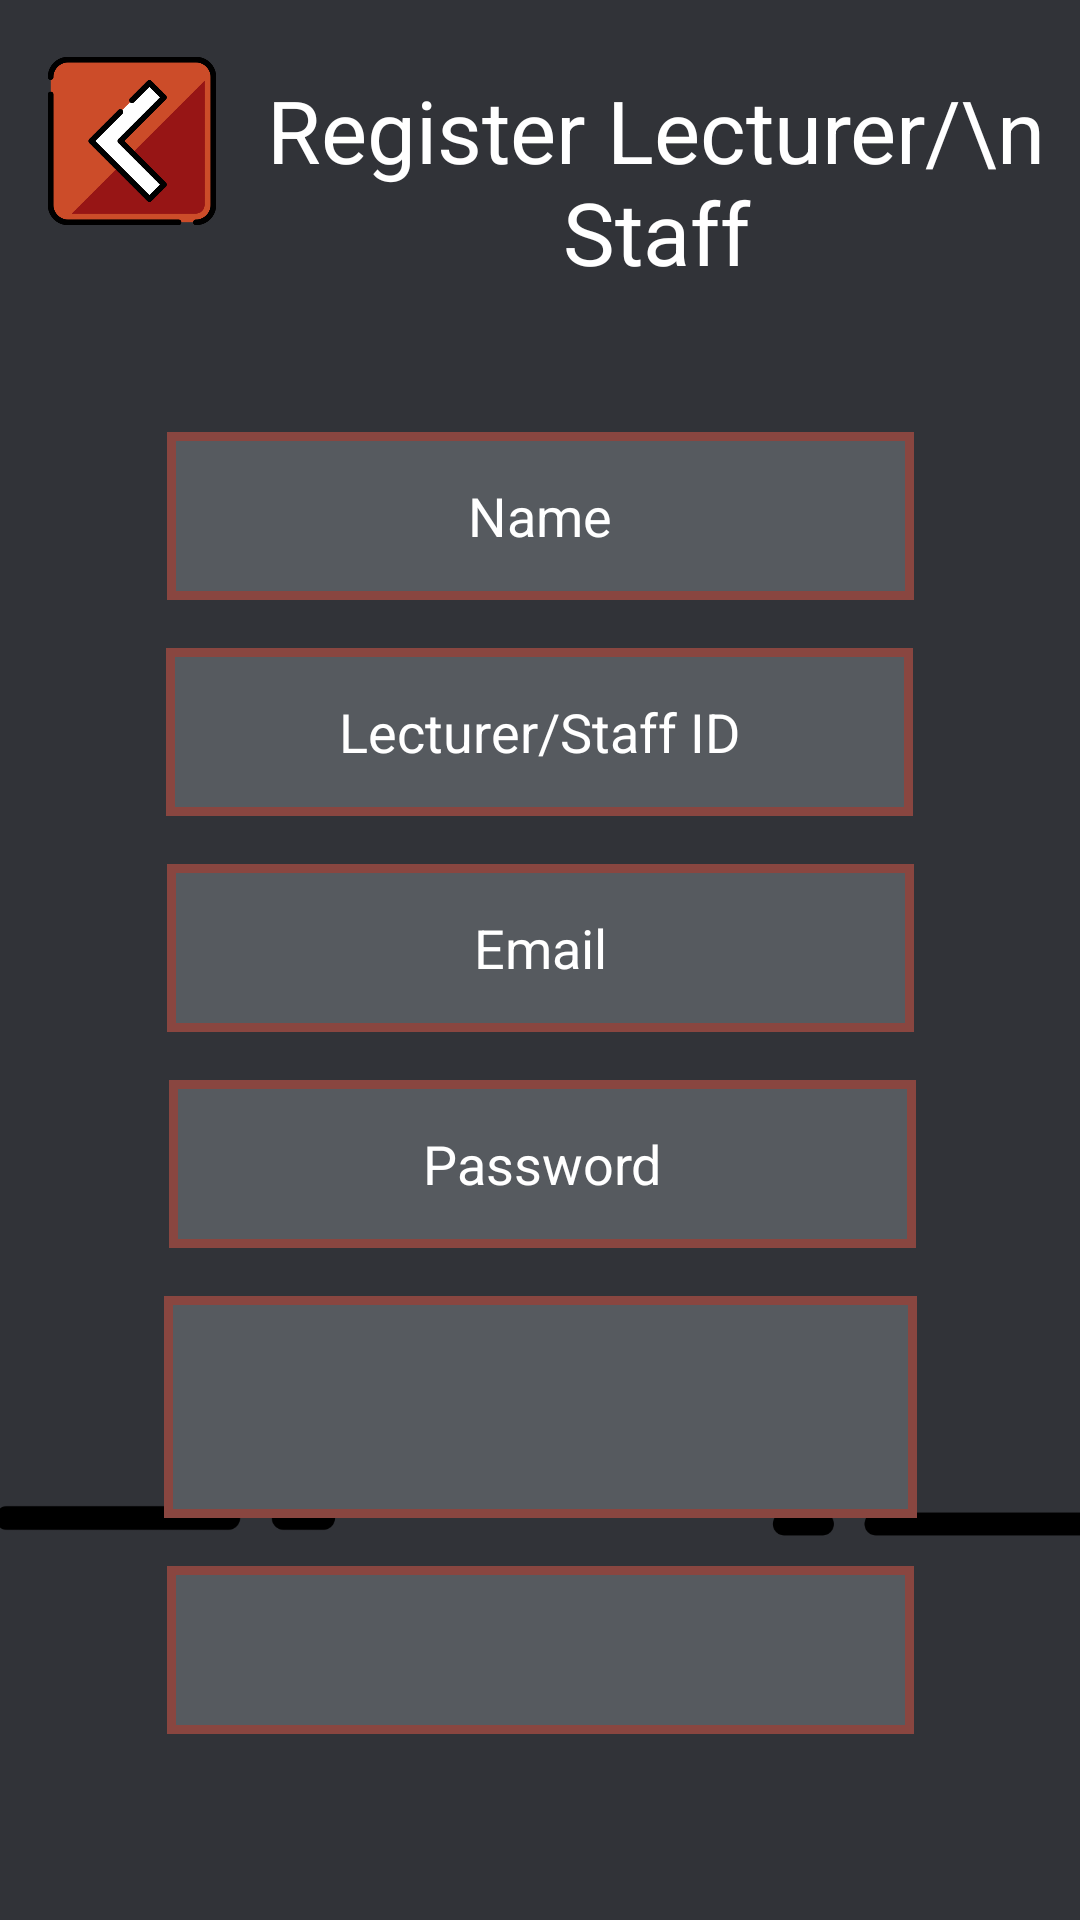

Named icons in this screenshot (1080x1920) and their centers, (x,y):
backbutton: (132,141)
